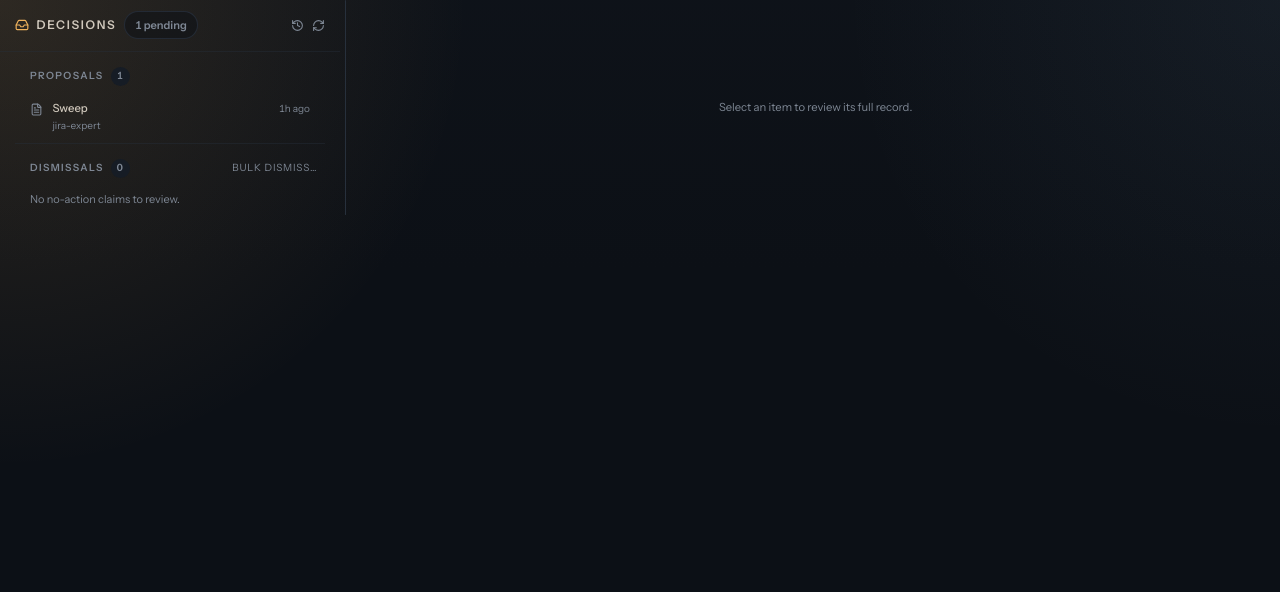
Test: DecisionsView Jira issue cards › names both issues of a link by summary, with status and a live-failure note
Click the text "Sweep" at (70, 108), box [52,101,88,115]
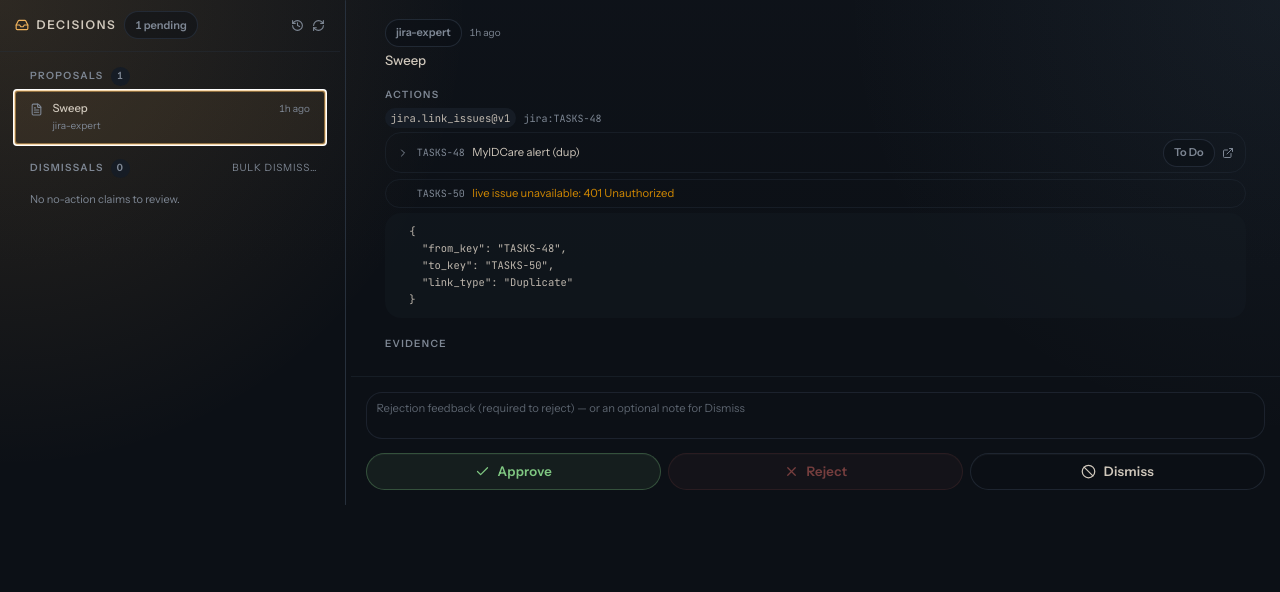
Expected: the number of elements with test id "jira-issue-card" is 2, [385,132,1246,174]; [385,179,1246,208]
Expected: the text "MyIDCare alert (dup)" is shown
Expected: the text "To Do" is shown, [1163,139,1214,167]
Click the text "MyIDCare alert (dup)" at (526, 153), box [472,145,580,160]
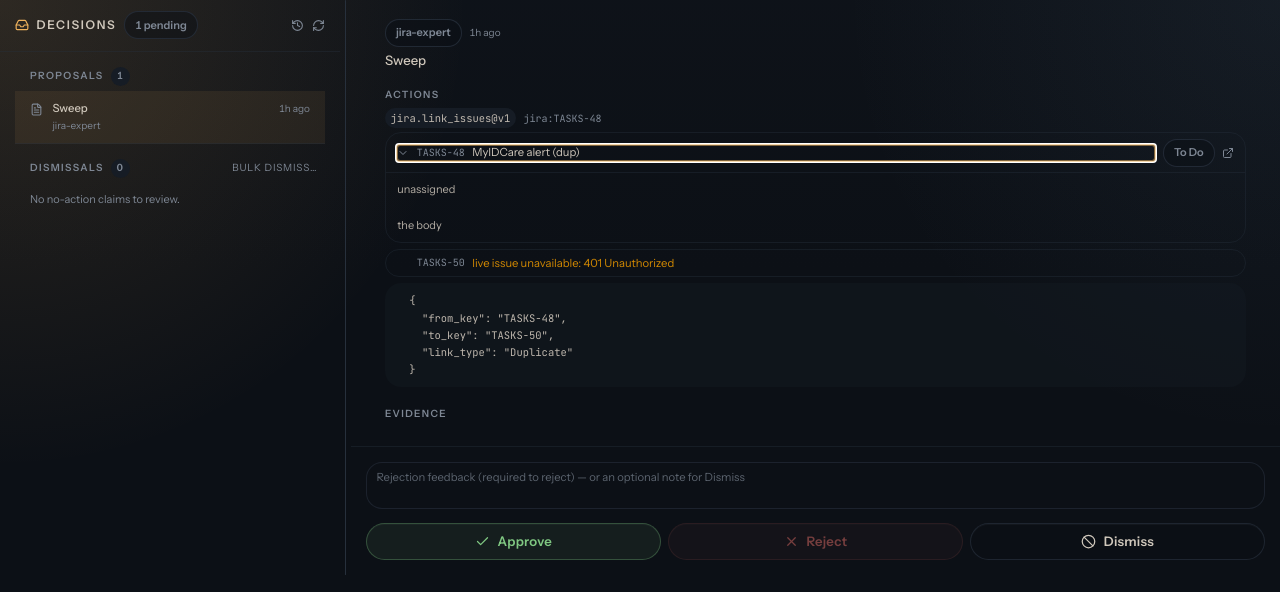
Expected: the text "unassigned the body" is shown, [386,172,1245,242]
